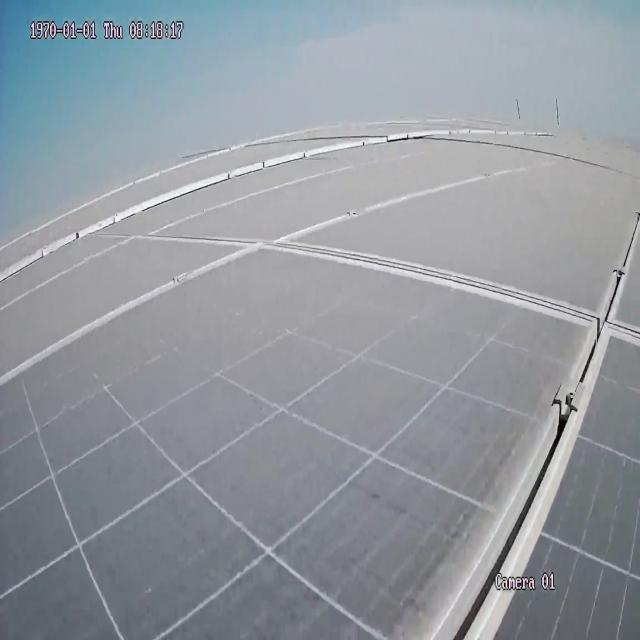interior panel: (4, 170, 640, 631)
